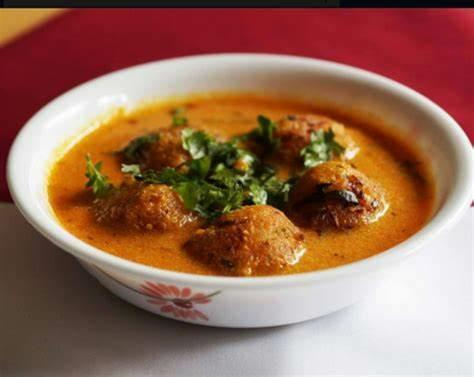DumAloo: (50, 96, 433, 276)
